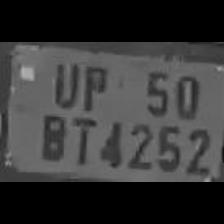0: (170, 70, 202, 119)
2: (122, 118, 154, 172), (182, 122, 212, 177)
4: (96, 114, 122, 169)
5: (140, 67, 172, 117), (154, 120, 182, 174)
B: (36, 110, 68, 162)
P: (77, 58, 109, 111)
T: (68, 113, 94, 168)
U: (48, 55, 80, 107)
